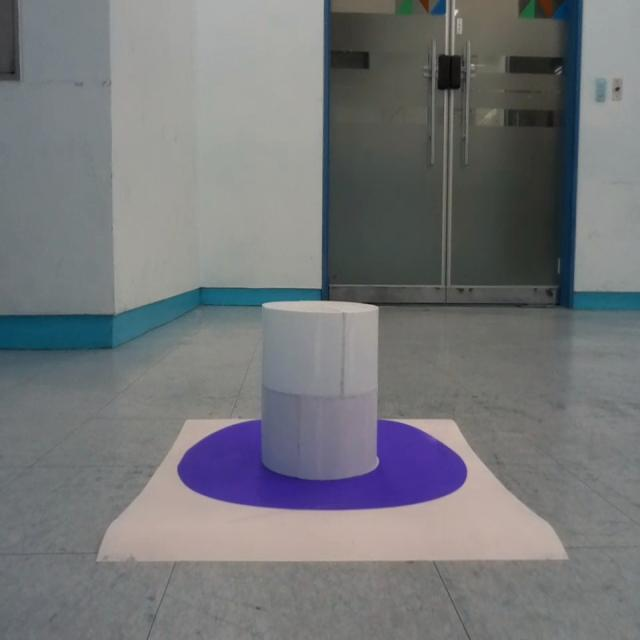cylinder: (260, 300, 380, 480)
